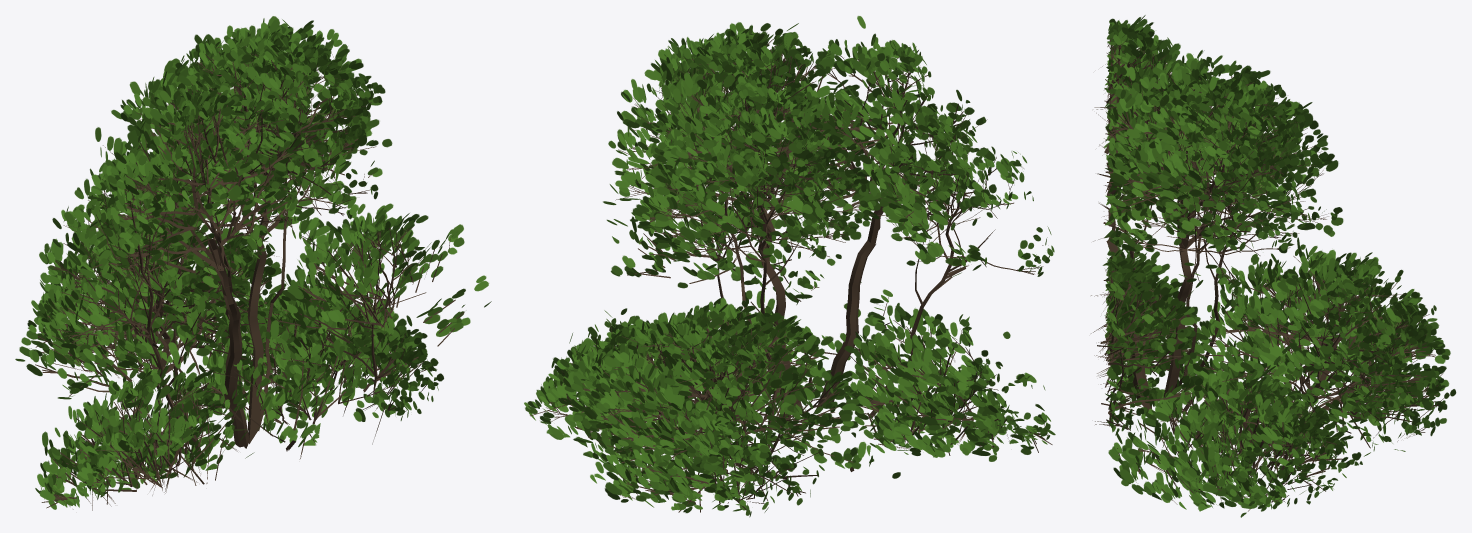
3 views of the same model, side by side, from view 1: azimuth 30°, elevation 25°; view 2: azimuth 150°, elevation 25°; view 3: azimuth 270°, elevation 25° (orthographic). The views are drawn at different scales.
Visible parts, largest first — view 1: oak 01.001_trunk_Mat.001_0.251; view 2: oak 01.001_trunk_Mat.001_0.251; view 3: oak 01.001_trunk_Mat.001_0.251.
Boxes of the visible parts, box(x1,y1,x2,y2) form: oak 01.001_trunk_Mat.001_0.251: box(15, 16, 491, 510); oak 01.001_trunk_Mat.001_0.251: box(524, 16, 1055, 517); oak 01.001_trunk_Mat.001_0.251: box(1091, 15, 1456, 517).
Bounding box in the file's own units: 4.06 × 3.49 × 3.
Materials: 2 (1 with a texture image).
